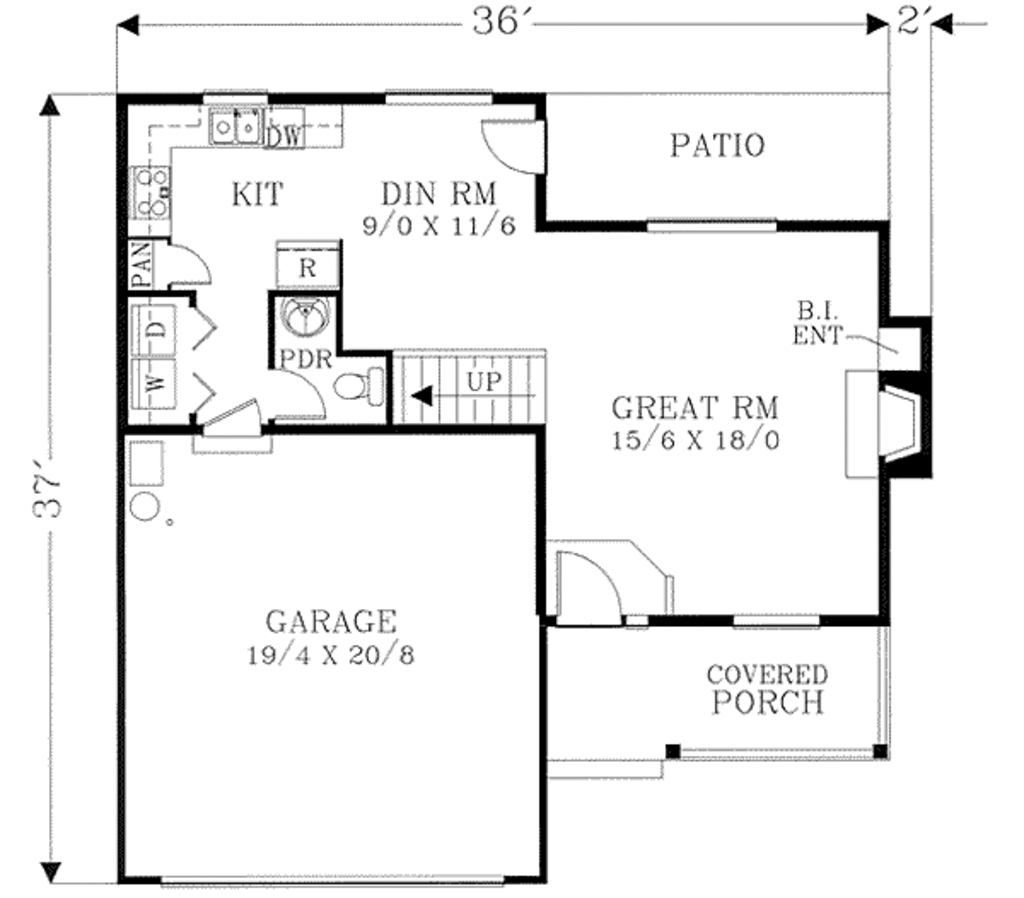door: (543, 545, 634, 638), (473, 106, 553, 181), (266, 365, 332, 419), (164, 237, 216, 295), (191, 395, 266, 434)
large_sink: (330, 351, 390, 417)
small_sink: (278, 288, 344, 341)
stairs: (382, 341, 559, 436)
twin_sink: (197, 99, 257, 144)
window: (640, 211, 783, 234), (732, 606, 822, 635), (384, 86, 498, 108)
